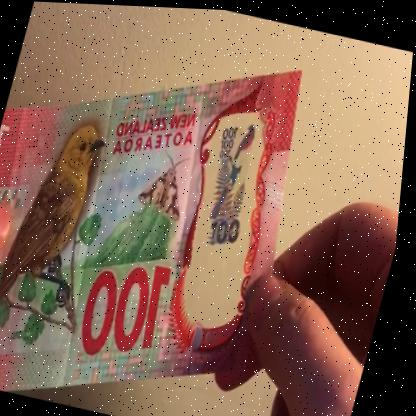100B: (186, 107, 276, 279)
